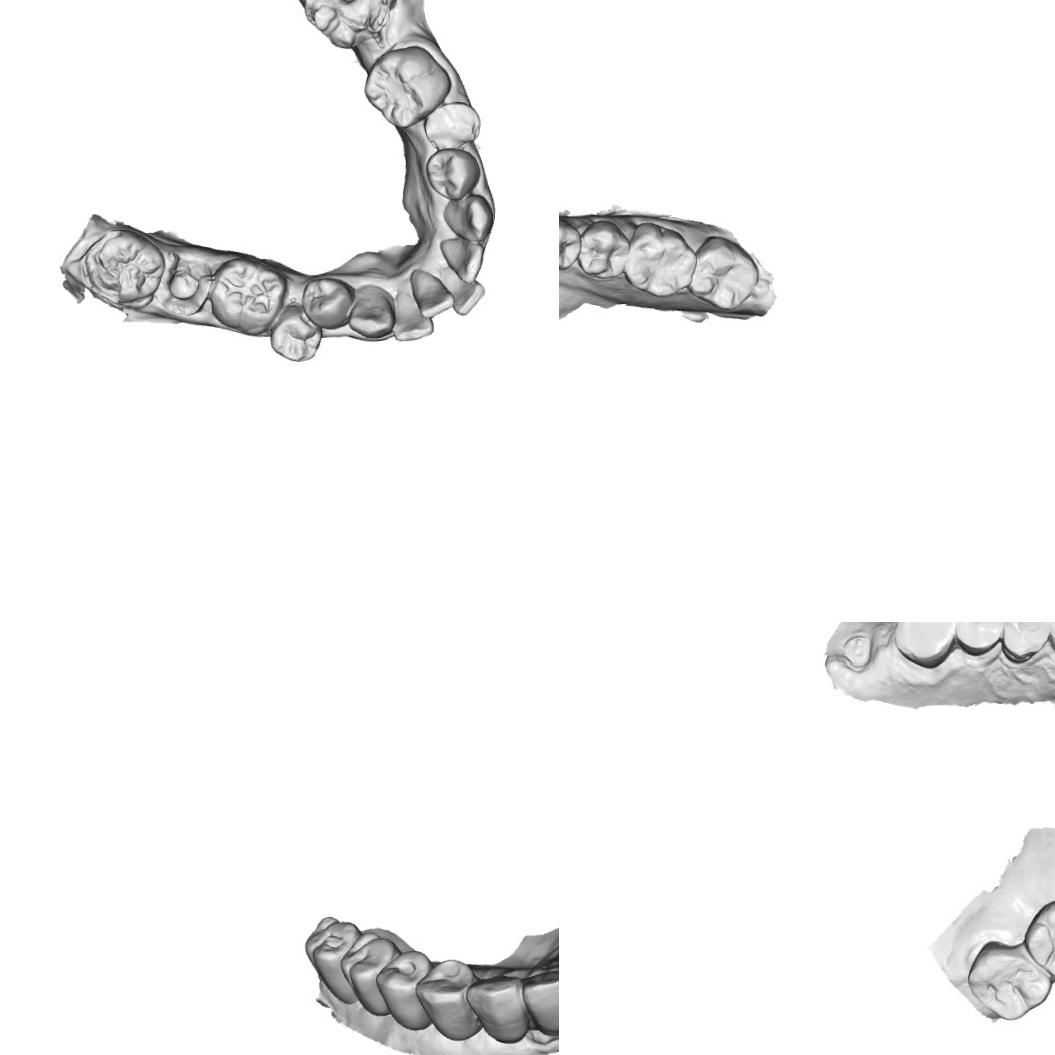canine: (463, 970, 532, 1046), (346, 282, 397, 340), (440, 192, 496, 244)
incisor: (521, 967, 559, 1039), (408, 266, 457, 320), (439, 262, 486, 316), (391, 288, 435, 344), (438, 235, 486, 285)
molar: (362, 44, 454, 130), (76, 226, 168, 310), (962, 938, 1052, 1023), (204, 254, 290, 337), (622, 218, 702, 302), (686, 232, 762, 314), (339, 925, 404, 1020), (302, 914, 362, 1006), (301, 0, 394, 51), (1019, 894, 1055, 985), (896, 622, 961, 665)
premolar: (414, 956, 485, 1044), (374, 946, 434, 1035), (268, 300, 324, 363), (578, 216, 631, 282), (421, 99, 484, 151), (424, 146, 482, 202), (300, 276, 356, 331), (1005, 622, 1053, 658), (559, 212, 583, 275), (957, 622, 1009, 649)
